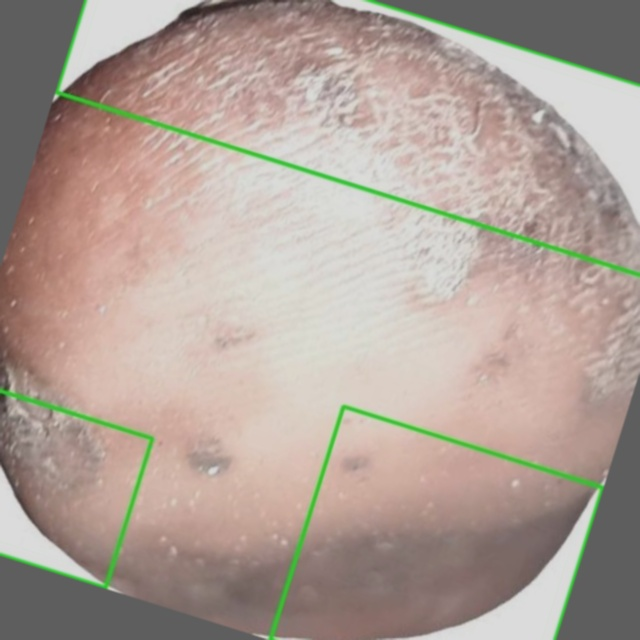Contact Dermatitis: (56, 0, 639, 274), (270, 406, 602, 639), (0, 390, 152, 587)
